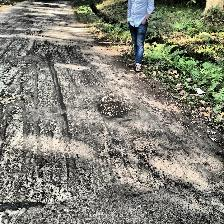pothole: (97, 100, 129, 118)
